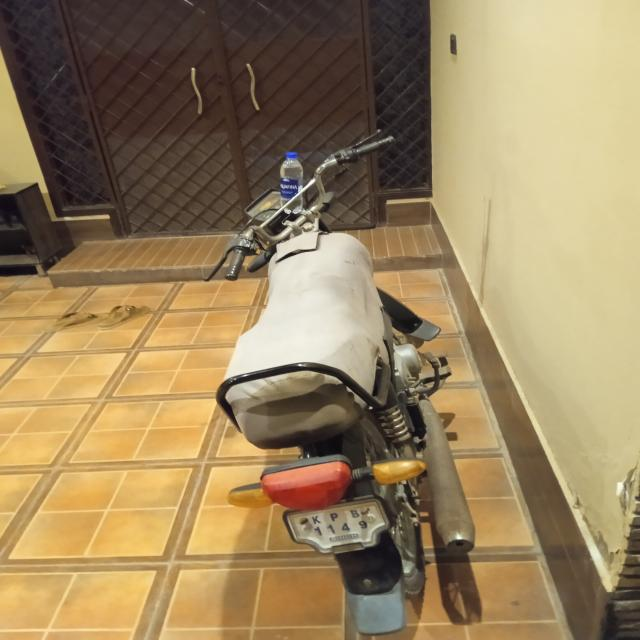Plastic: (279, 149, 305, 210)
